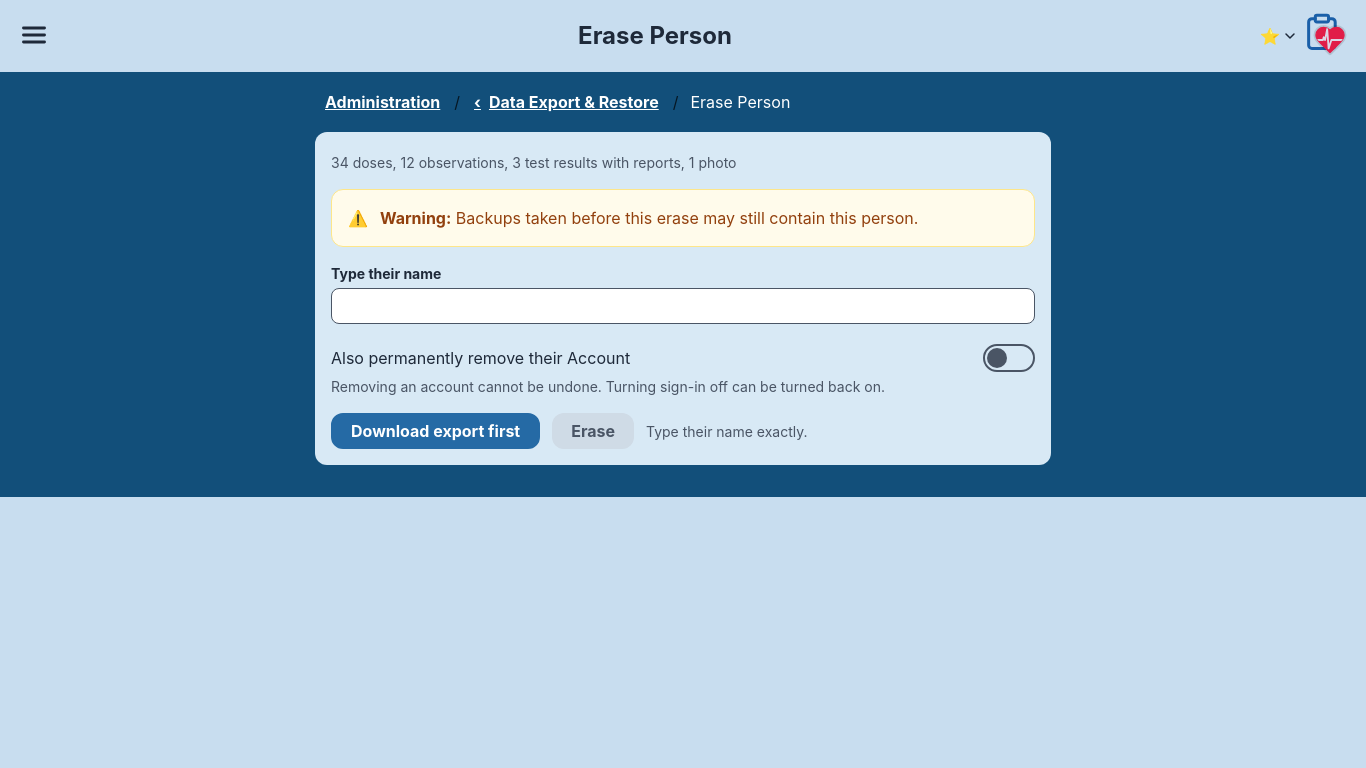
Test: Erase Person page › asks an Admin for their password only when the Account being removed is their own
The width and height of the screenshot is (1366, 768).
Expected: the field labelled "Password for this erase" is not shown
Click the switch named "Also permanently remove their Account" at (1009, 358), box left=983, top=344, right=1035, bottom=372
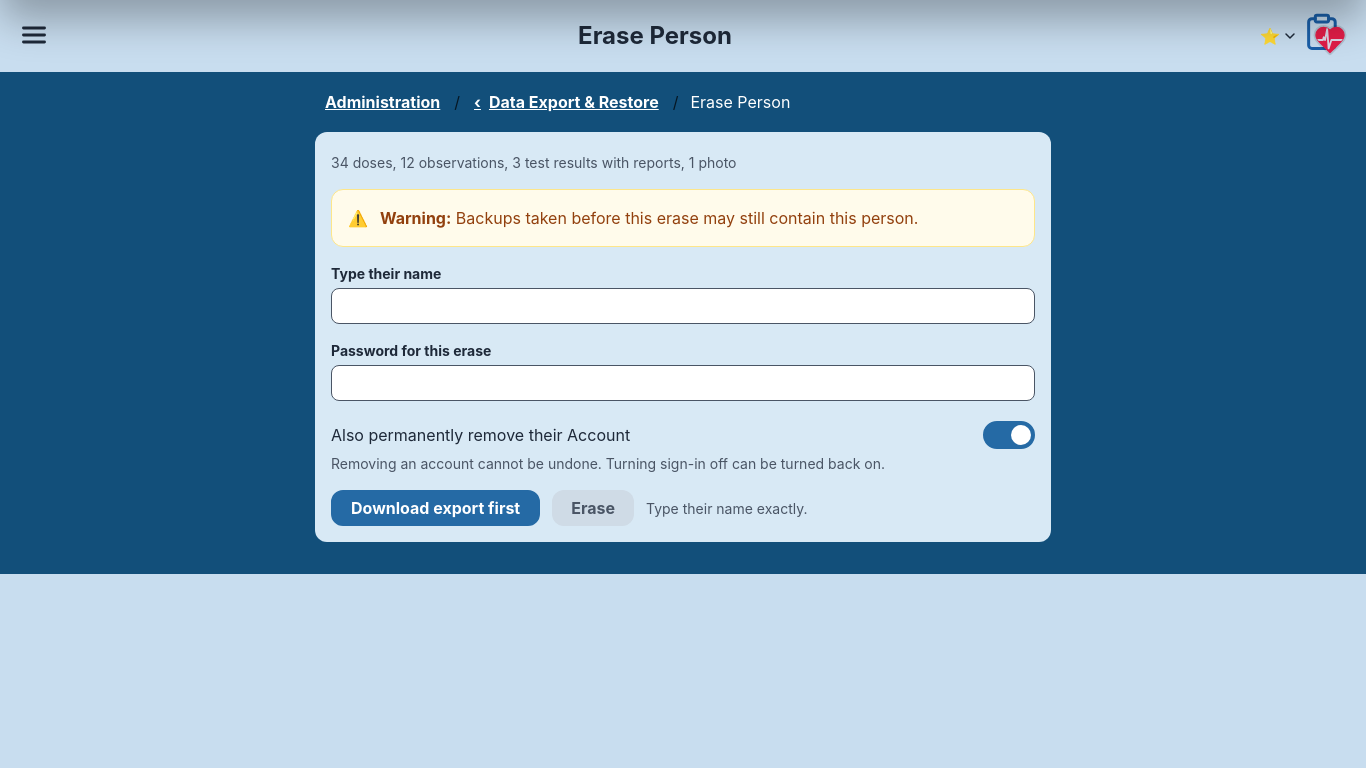
Expected: the password field labelled "Password for this erase" is shown, left=331, top=365, right=1035, bottom=401
Click the switch named "Also permanently remove their Account" at (1009, 435), box left=983, top=421, right=1035, bottom=449
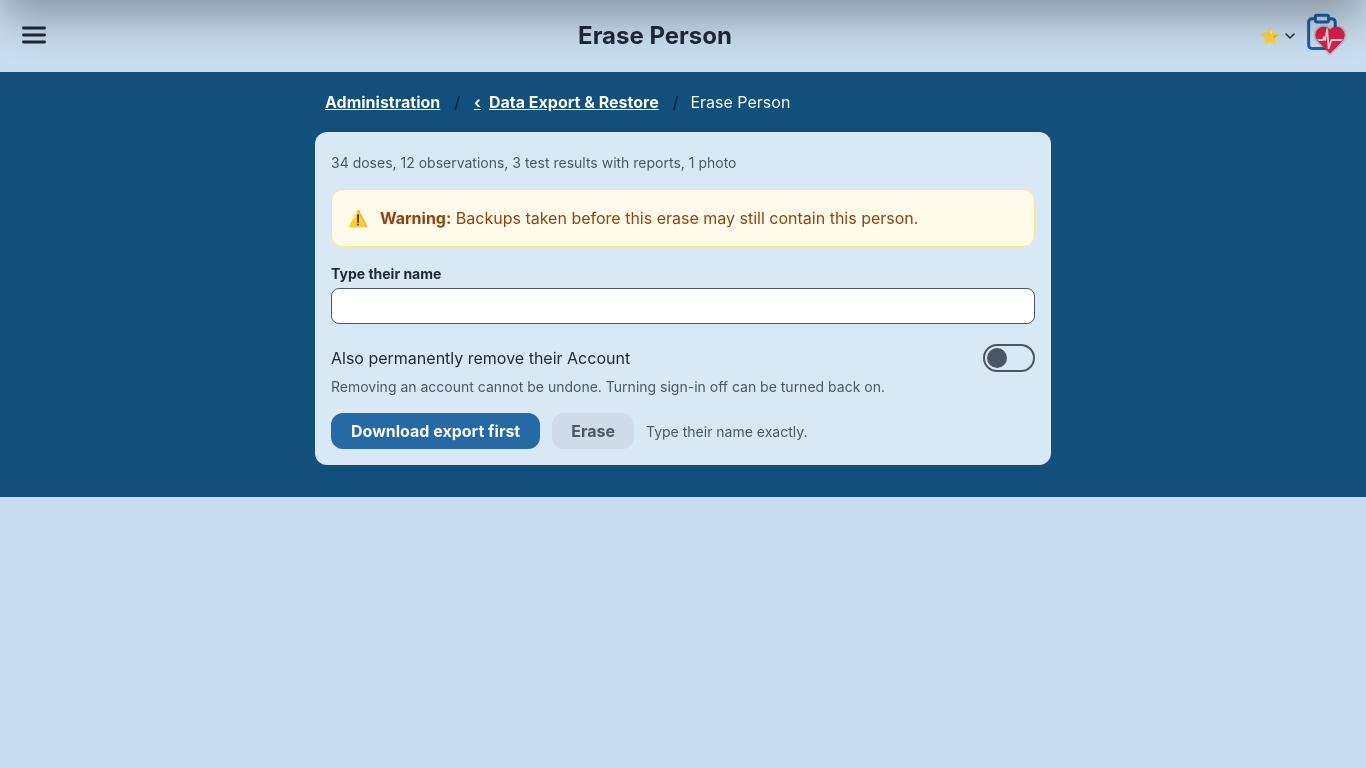
Expected: the label labelled "Password for this erase" is gone
